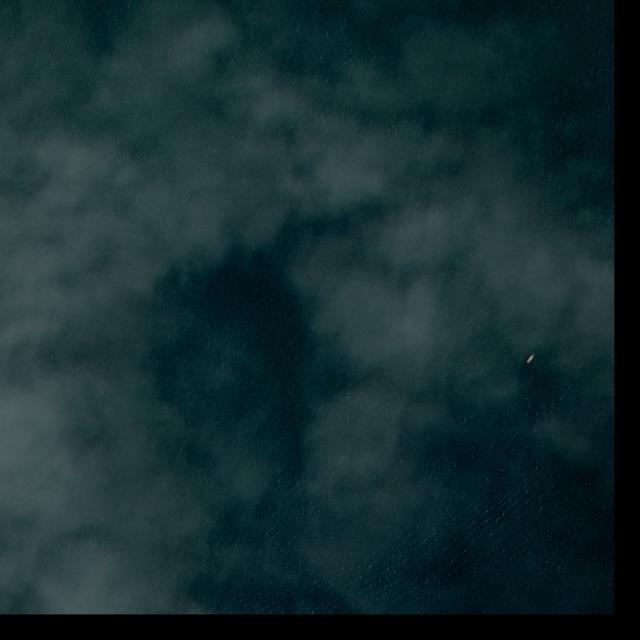ship: (526, 353, 536, 365)
